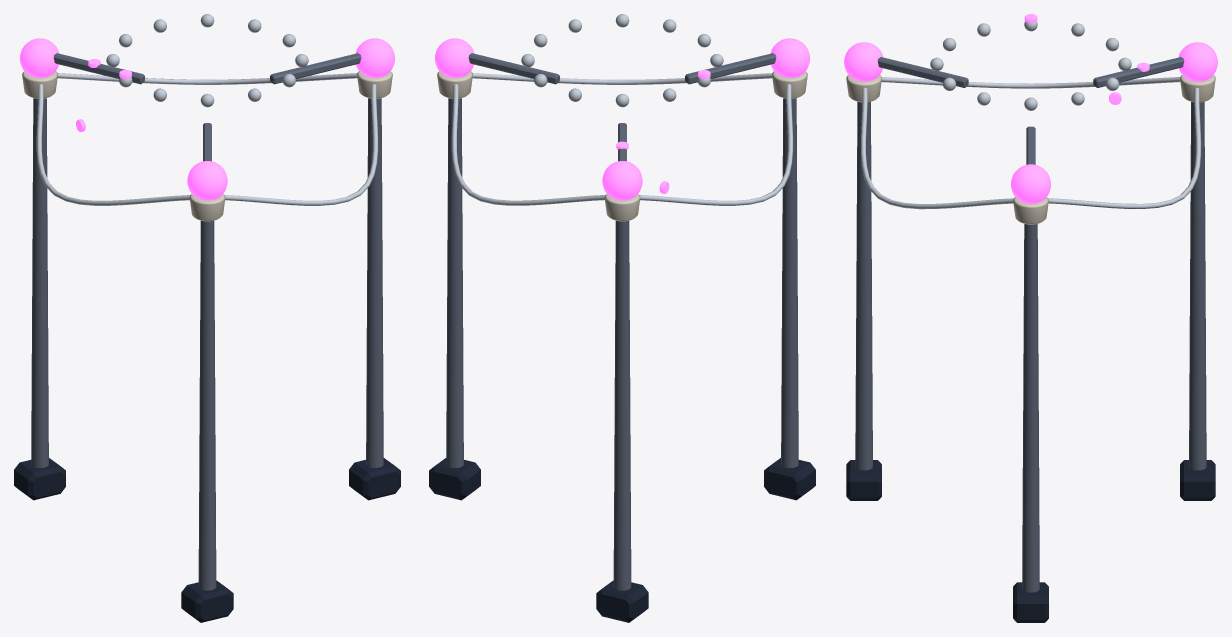
Rendered from tower_arc_range_s5.glb.
The picture shows the model from 3 angles, left to right: view 1: azimuth 30°, elevation 25°; view 2: azimuth 150°, elevation 25°; view 3: azimuth 270°, elevation 25°; orthographic projection.
Parts seen in each view (by area): view 1: arc_sat_strut2, arc_sat_strut0, arc_sat_strut1, arc_sat_foot2, arc_sat_foot1, arc_sat_foot0, arc_relay_wire1, arc_relay_wire2, arc_relay_wire0, arc_sat_electrode2, arc_sat_electrode0, arc_sat_electrode1 (+5 smaller); view 2: arc_sat_strut0, arc_sat_strut2, arc_sat_strut1, arc_sat_foot0, arc_sat_foot1, arc_sat_foot2, arc_relay_wire2, arc_relay_wire0, arc_relay_wire1, arc_sat_electrode0, arc_sat_electrode1, arc_sat_electrode2 (+5 smaller); view 3: arc_sat_strut1, arc_sat_strut0, arc_sat_strut2, arc_relay_wire0, arc_relay_wire1, arc_relay_wire2, arc_sat_electrode1, arc_sat_foot0, arc_sat_foot2, arc_sat_foot1, arc_sat_electrode0, arc_sat_electrode2 (+5 smaller).
Part boxes in pixels (box(x1,y1,x2,y2)): arc_sat_strut2: box(198, 220, 216, 590); arc_sat_strut0: box(31, 98, 48, 467); arc_sat_strut1: box(366, 98, 383, 467); arc_sat_foot2: box(181, 580, 233, 622); arc_sat_foot1: box(349, 458, 400, 500); arc_sat_foot0: box(14, 458, 65, 500); arc_relay_wire1: box(225, 84, 378, 205); arc_relay_wire2: box(36, 84, 189, 205); arc_relay_wire0: box(57, 73, 357, 84); arc_sat_electrode2: box(187, 161, 227, 200); arc_sat_electrode0: box(20, 38, 59, 77); arc_sat_electrode1: box(355, 38, 394, 77); arc_sat_strut0: box(613, 220, 631, 590); arc_sat_strut2: box(781, 98, 798, 467); arc_sat_strut1: box(446, 98, 463, 467); arc_sat_foot0: box(596, 580, 648, 622); arc_sat_foot1: box(429, 458, 480, 500); arc_sat_foot2: box(764, 458, 815, 500); arc_relay_wire2: box(640, 84, 793, 205); arc_relay_wire0: box(451, 84, 604, 205); arc_relay_wire1: box(472, 73, 772, 84); arc_sat_electrode0: box(602, 161, 642, 200); arc_sat_electrode1: box(435, 38, 474, 77); arc_sat_electrode2: box(770, 38, 809, 77); arc_sat_strut1: box(1022, 224, 1039, 592); arc_sat_strut0: box(1189, 101, 1206, 470); arc_sat_strut2: box(855, 101, 872, 470); arc_relay_wire0: box(1048, 87, 1201, 208); arc_relay_wire1: box(861, 87, 1013, 209); arc_relay_wire2: box(881, 77, 1180, 88); arc_sat_electrode1: box(1011, 164, 1050, 203); arc_sat_foot0: box(1180, 460, 1215, 500); arc_sat_foot2: box(846, 460, 881, 500); arc_sat_foot1: box(1013, 582, 1048, 622); arc_sat_electrode0: box(1178, 42, 1217, 81); arc_sat_electrode2: box(844, 42, 883, 81).
Bounding box in the file's own units: 1.75 × 2.36 × 1.67.
